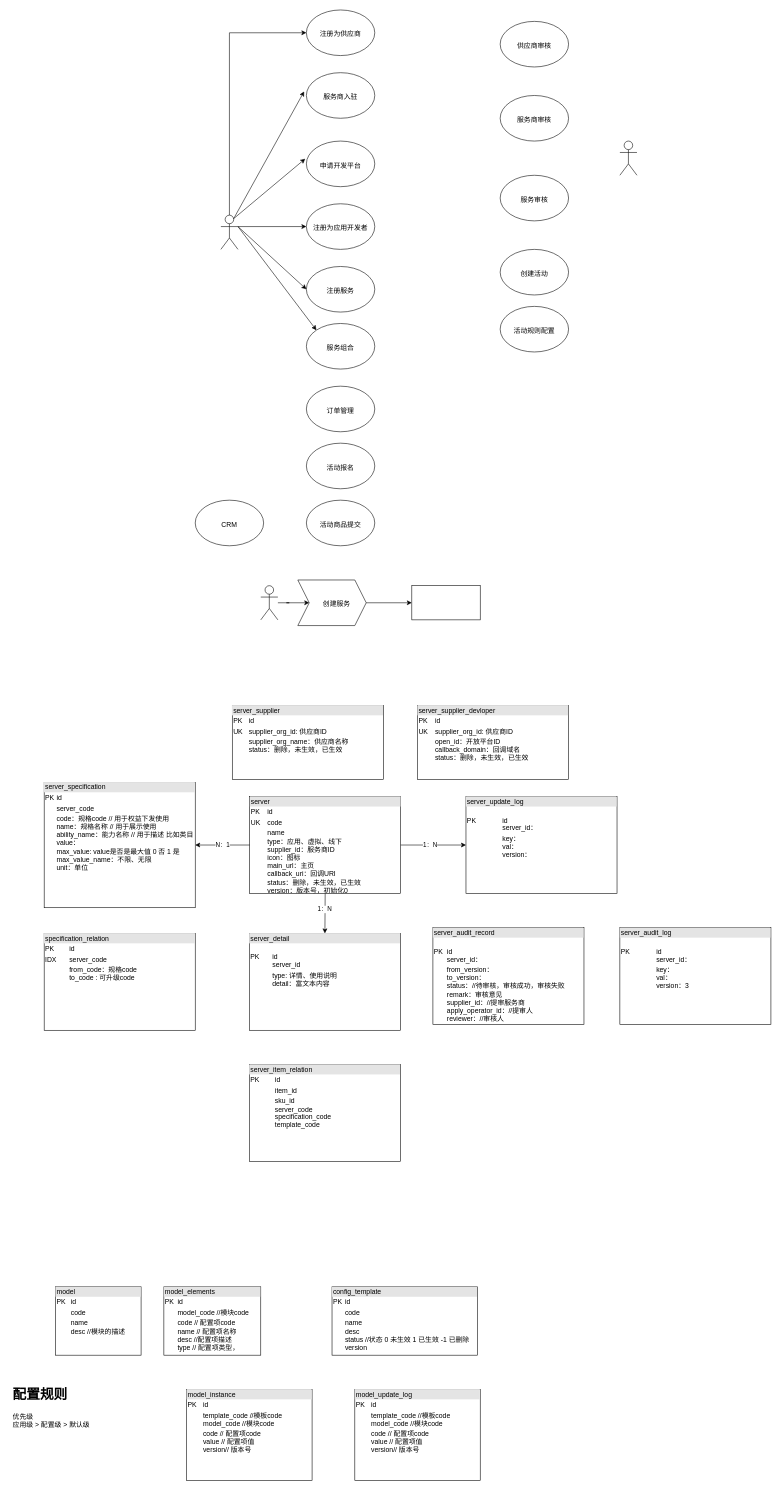
Some shapes in this 781 by 1491 pixel diagram are drawn without their labels. The shapes that lost their labels are listed below. From the top down, each one's box as (x1, y1, x2, y2) in pixels, then its label:
(619, 141, 637, 175): 平台运营
(220, 215, 238, 249): 服务商
(260, 585, 278, 620): Actor
(411, 585, 480, 620): 服务
